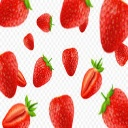strawberry: (99, 87, 128, 128), (81, 58, 105, 100), (48, 94, 75, 128), (2, 99, 32, 128), (32, 53, 53, 89), (36, 13, 54, 34)
